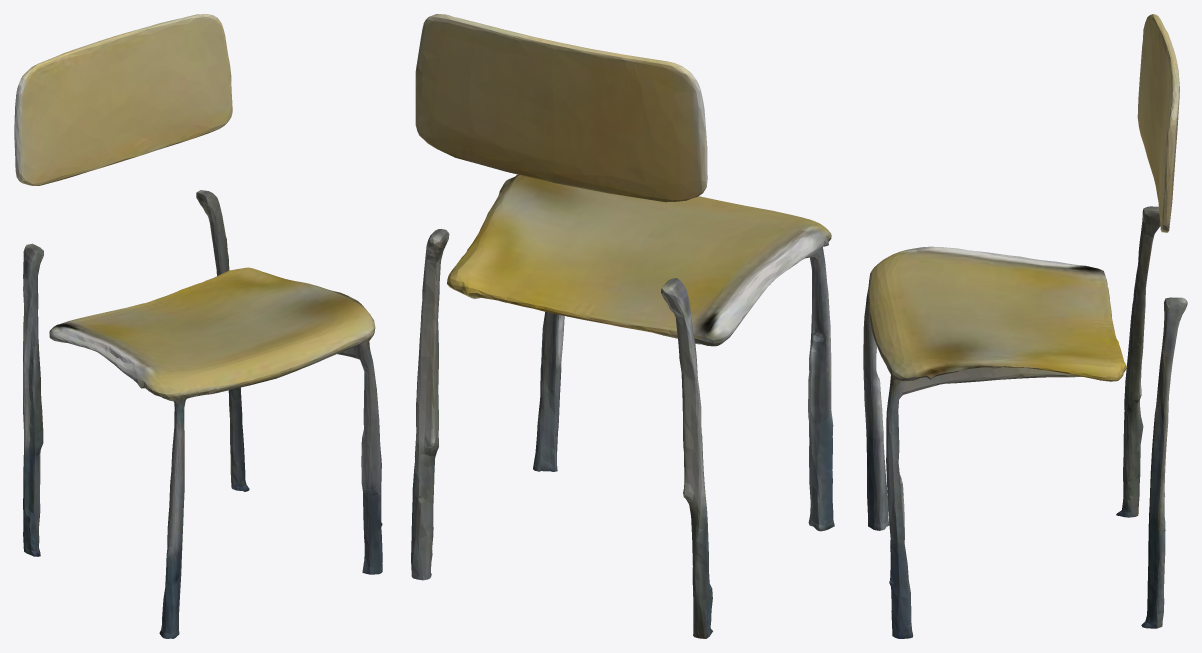
3 views of the same model, side by side, from view 1: azimuth 30°, elevation 25°; view 2: azimuth 150°, elevation 25°; view 3: azimuth 270°, elevation 25° (orthographic). The views are drawn at different scales.
Visible parts, largest first — view 1: world; view 2: world; view 3: world.
Part boxes in pixels (bbox=[...]): world: bbox=[14, 14, 382, 638]; world: bbox=[411, 14, 834, 638]; world: bbox=[863, 14, 1187, 638].
Size of the model in its own units: 0.2794 by 0.5013 by 0.2884.
Materials: 1 (1 with a texture image).
